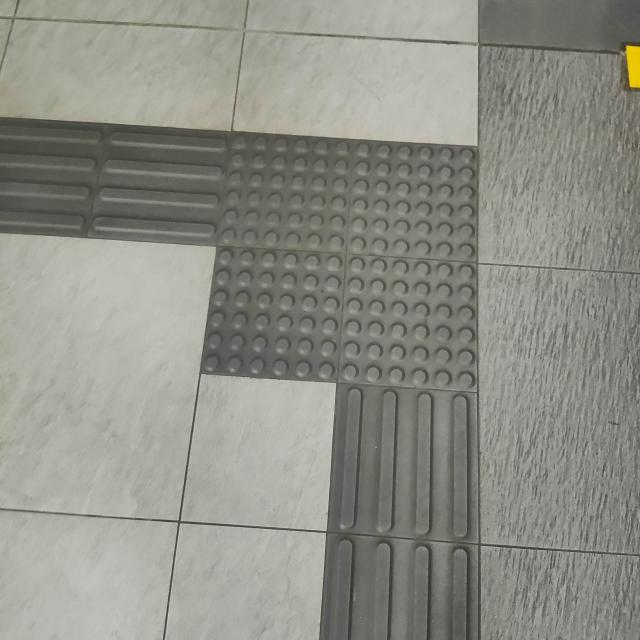kiri: (0, 70, 550, 497)
